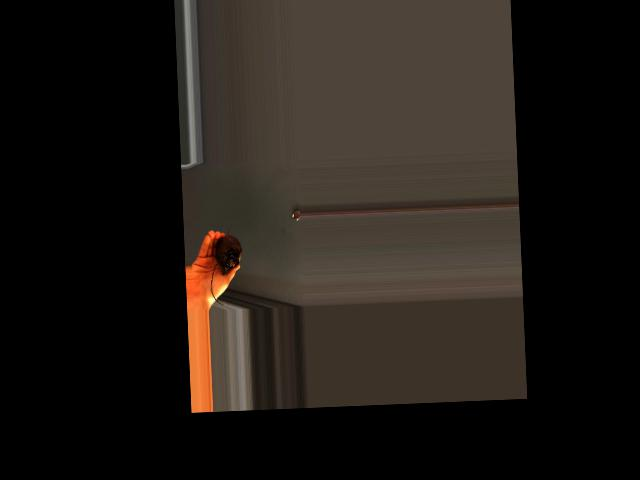beet: (208, 225, 243, 304)
